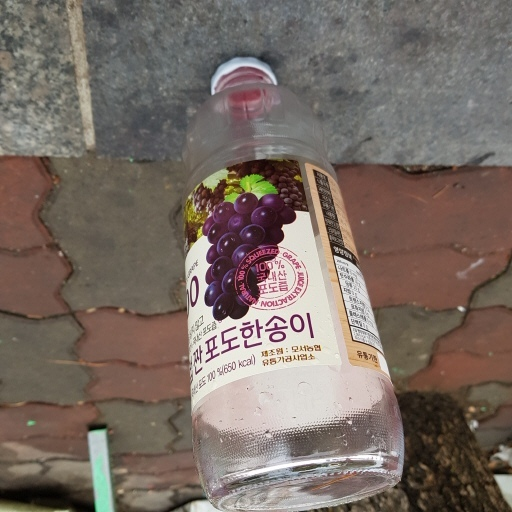Glass_4: (182, 55, 407, 512)
